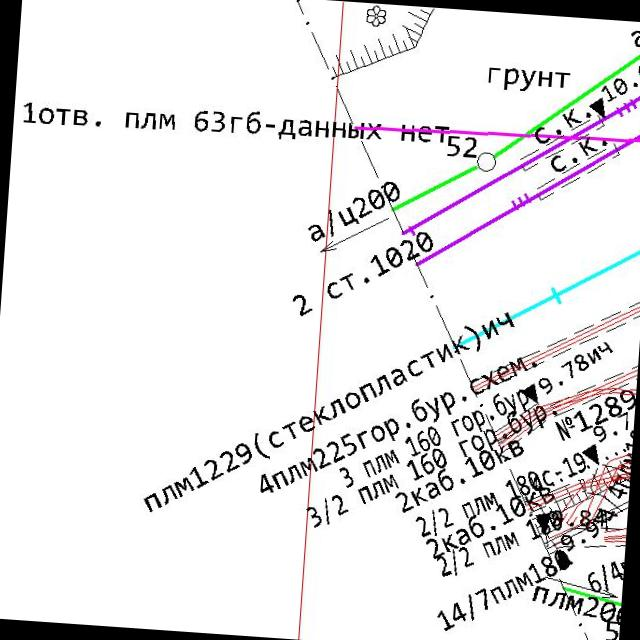bushes: (364, 4, 388, 28)
mark: (580, 440, 602, 466), (587, 94, 608, 121), (520, 381, 540, 404)
well: (476, 150, 497, 172)
